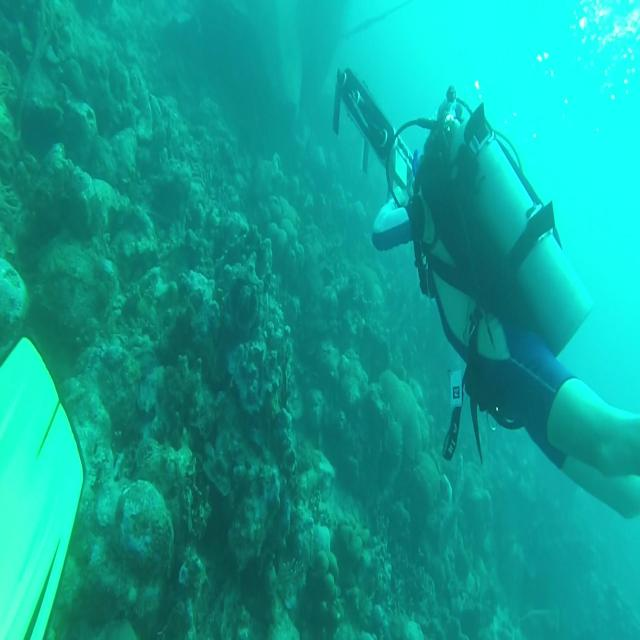human: (332, 65, 638, 520)
